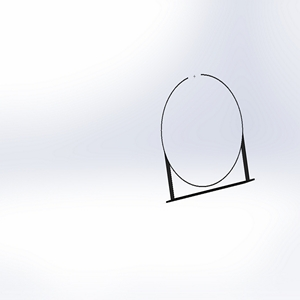circle: (158, 70, 257, 203)
